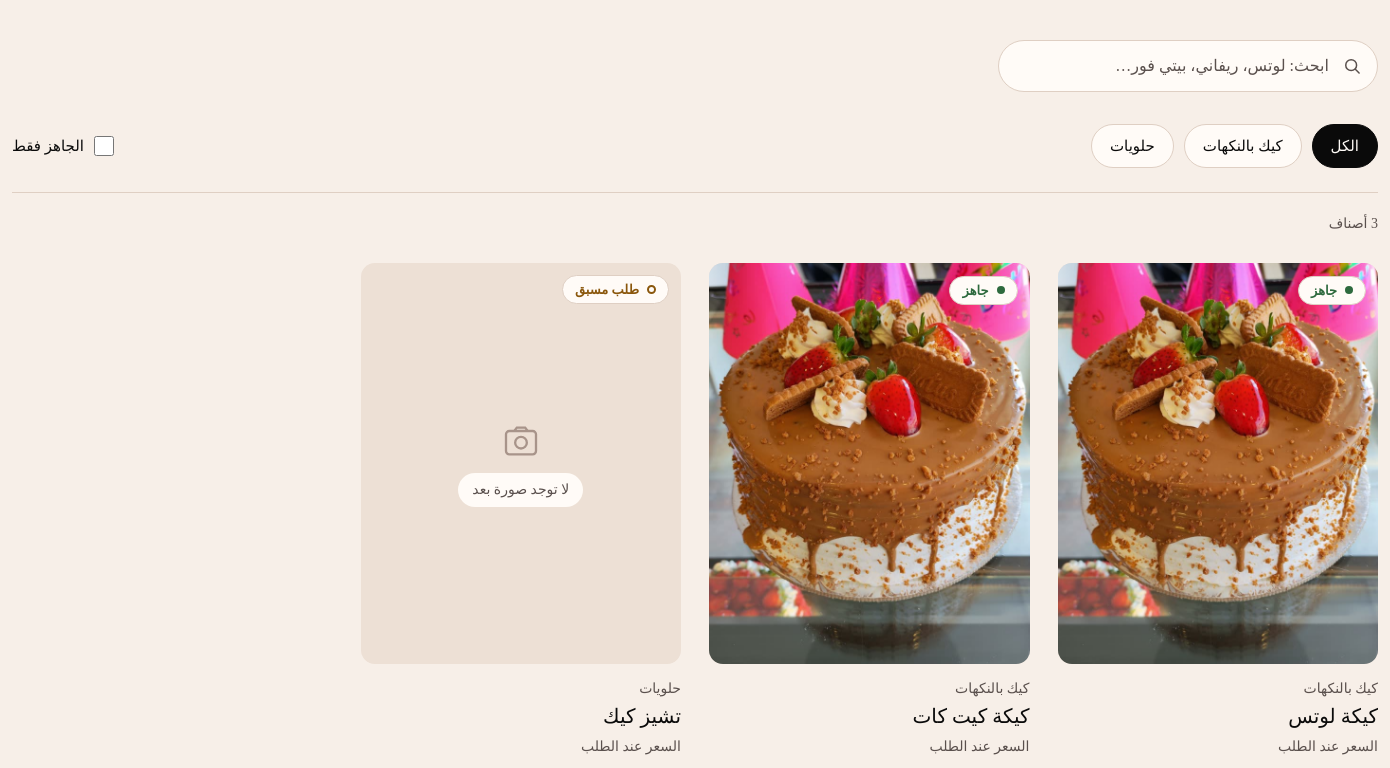
Test: ProductCatalog (search and filters) › counts in Arabic with the right plural form and Western digits
Expected: the text "3 أصناف" is shown, [1329,216,1378,231]
Click the radio button labelled "حلويات" at (1132,146), box [1091,124,1174,168]
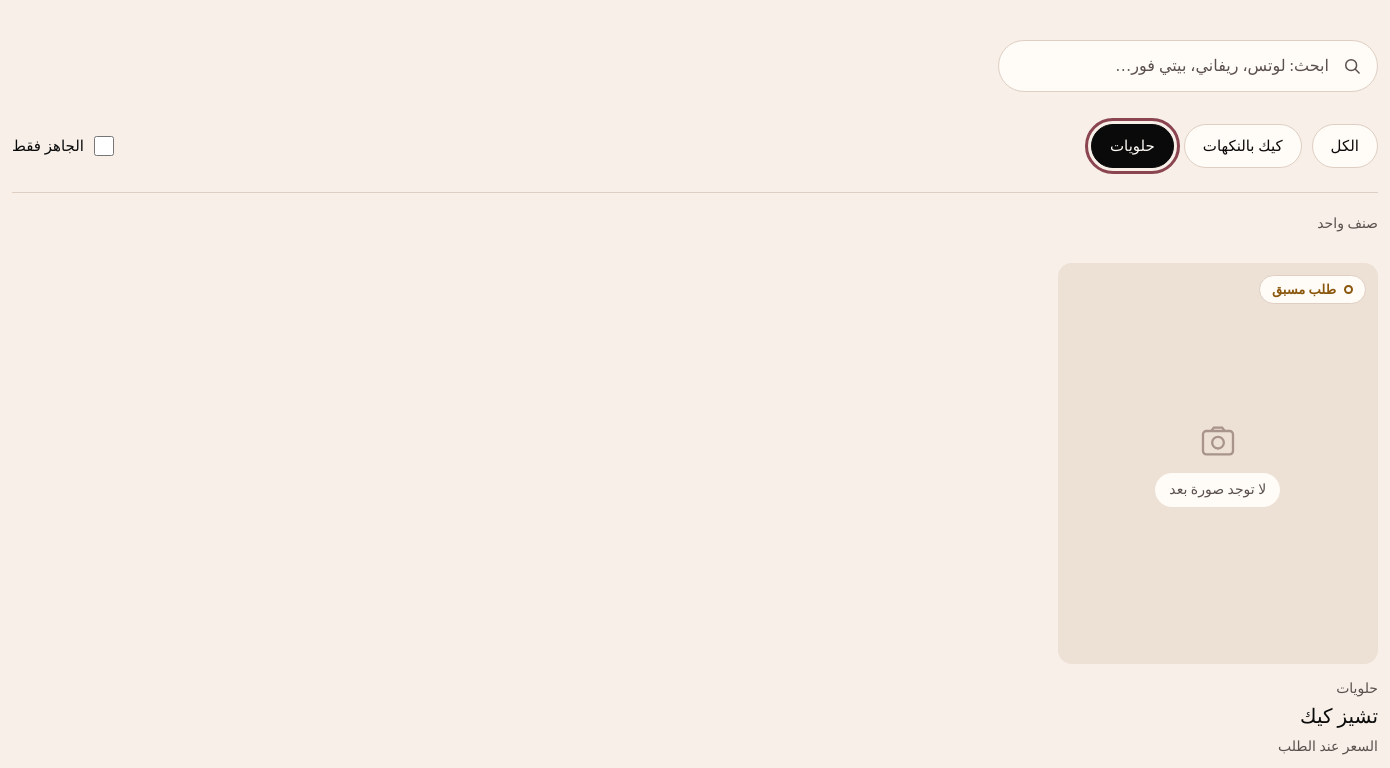
Result: the text "صنف واحد" is shown at [1317,216,1378,231]
